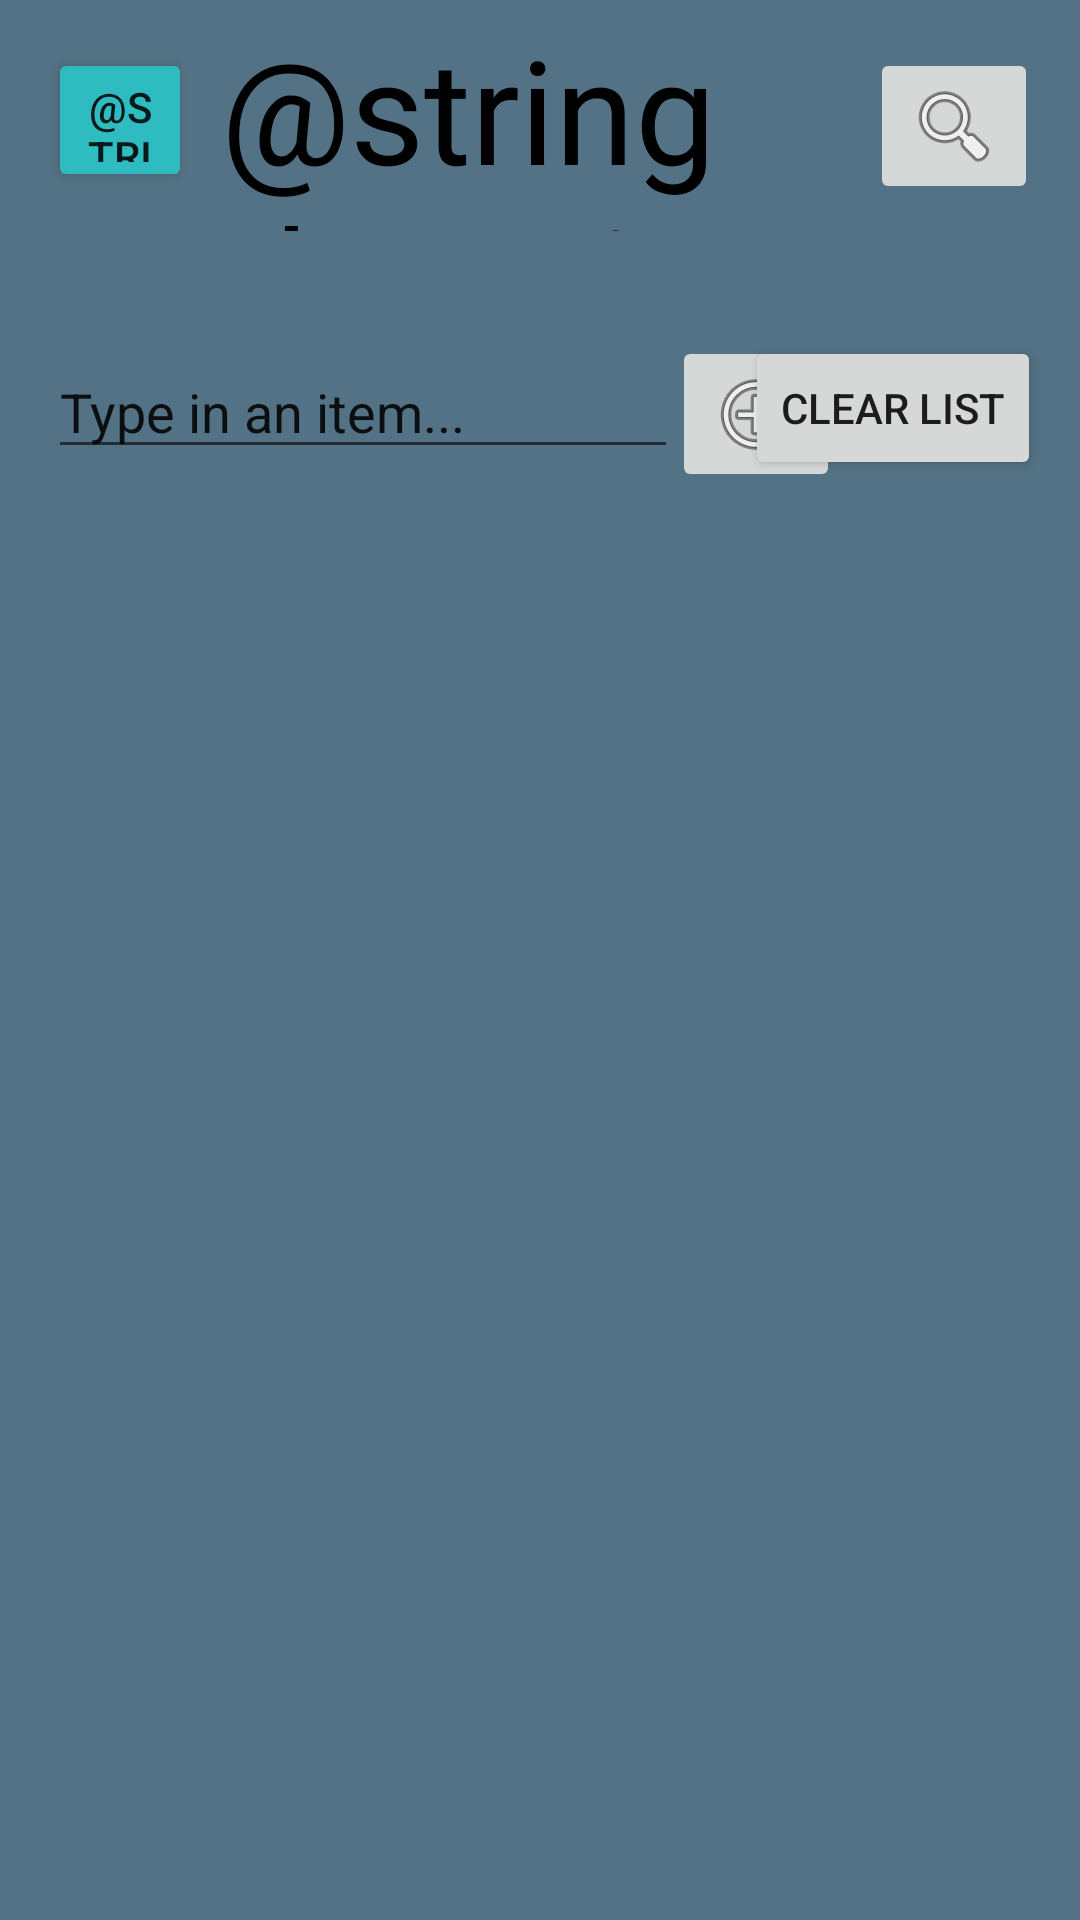

Where icons sit on this 1080px×1920px app screen, as (x1, y1, x2, y2):
search: (882, 66, 1026, 186)
